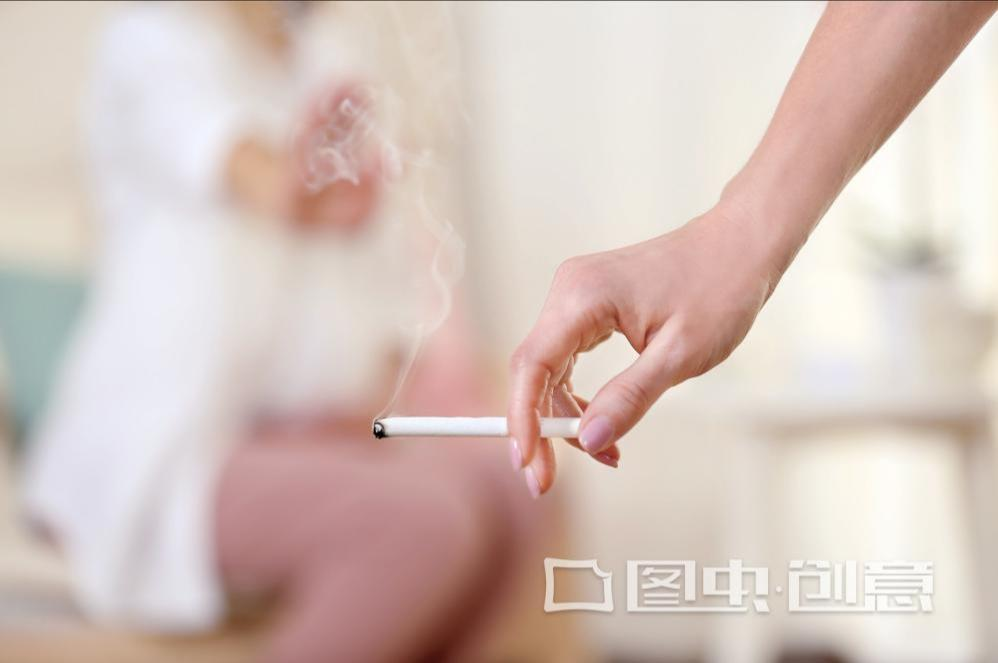Cigarette: (372, 412, 607, 441)
